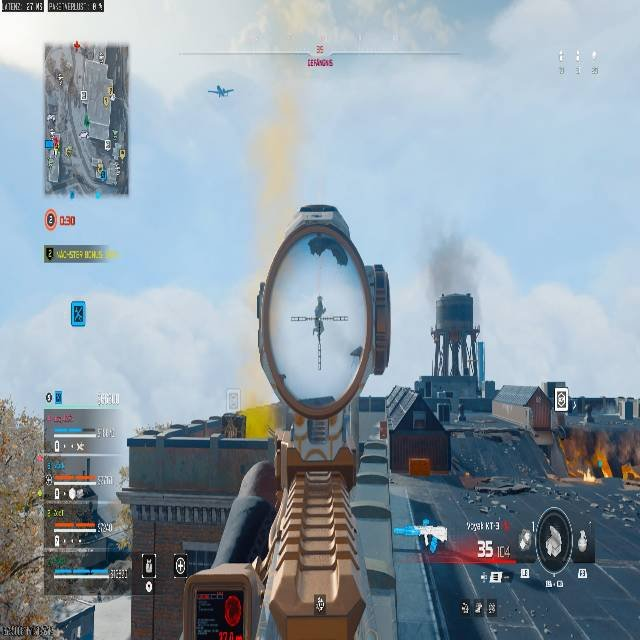player: (312, 295, 326, 335)
